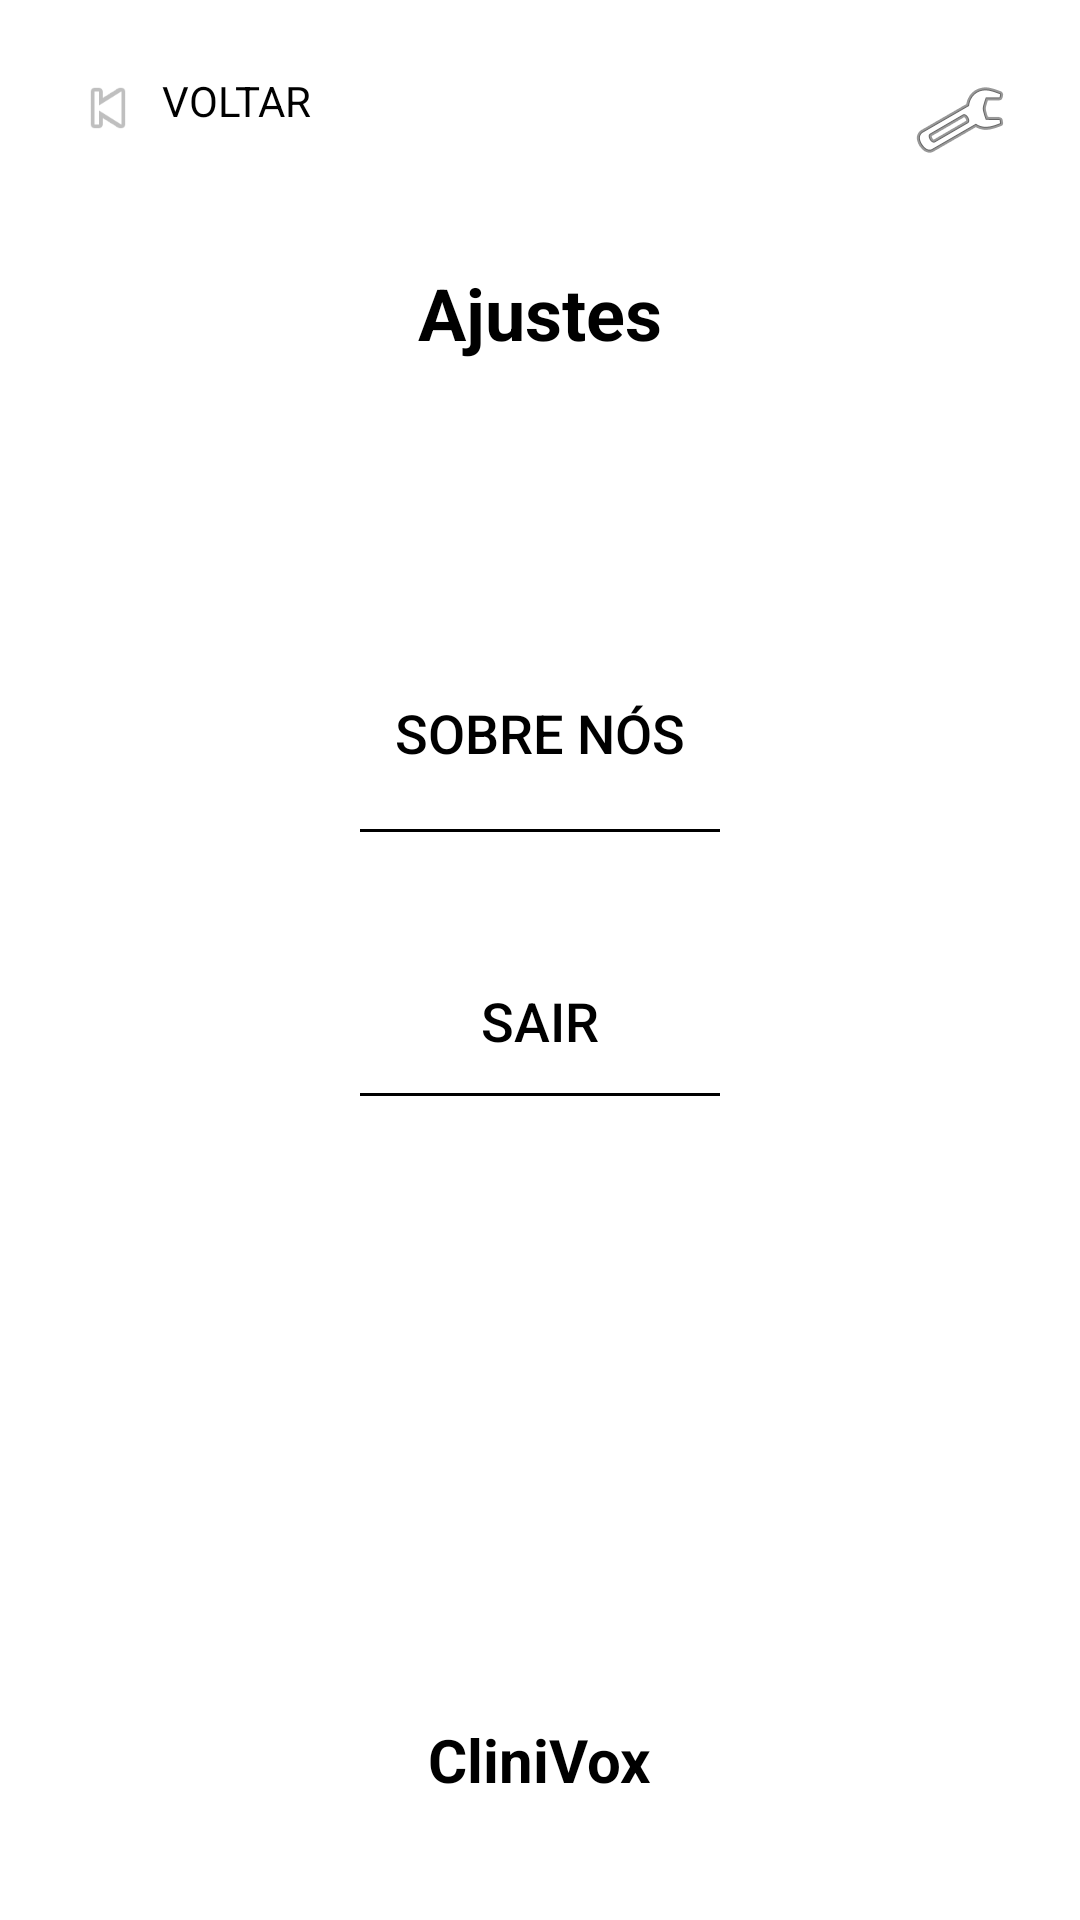

Screen size 1080*1920. Icon name, then its box in pixels as (x1, y1, x2, y2):
manage: (917, 87, 1003, 153)
previous: (91, 88, 125, 128)
